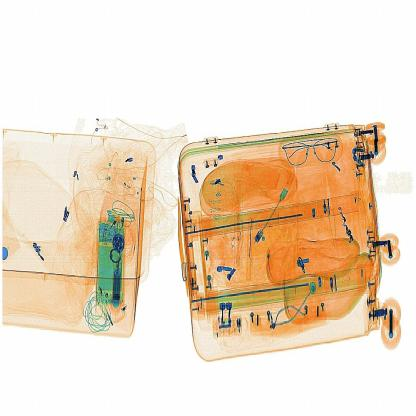pliers: (242, 208, 262, 283)
